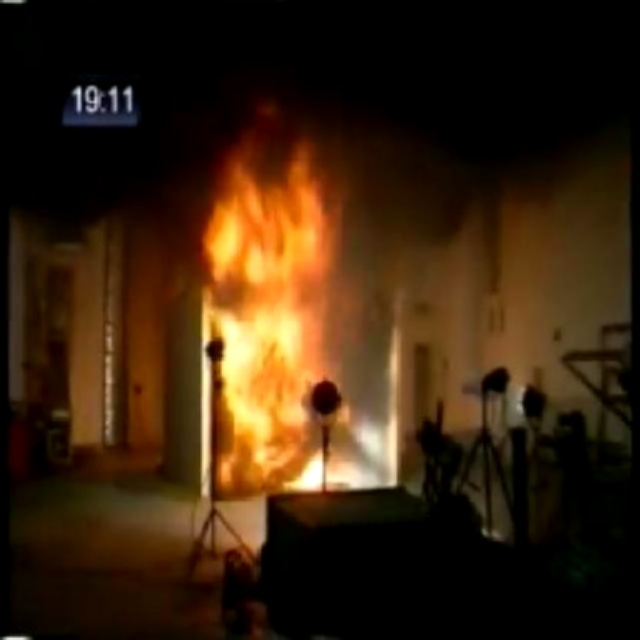fire: (200, 141, 364, 479)
smoke: (0, 1, 640, 192)
